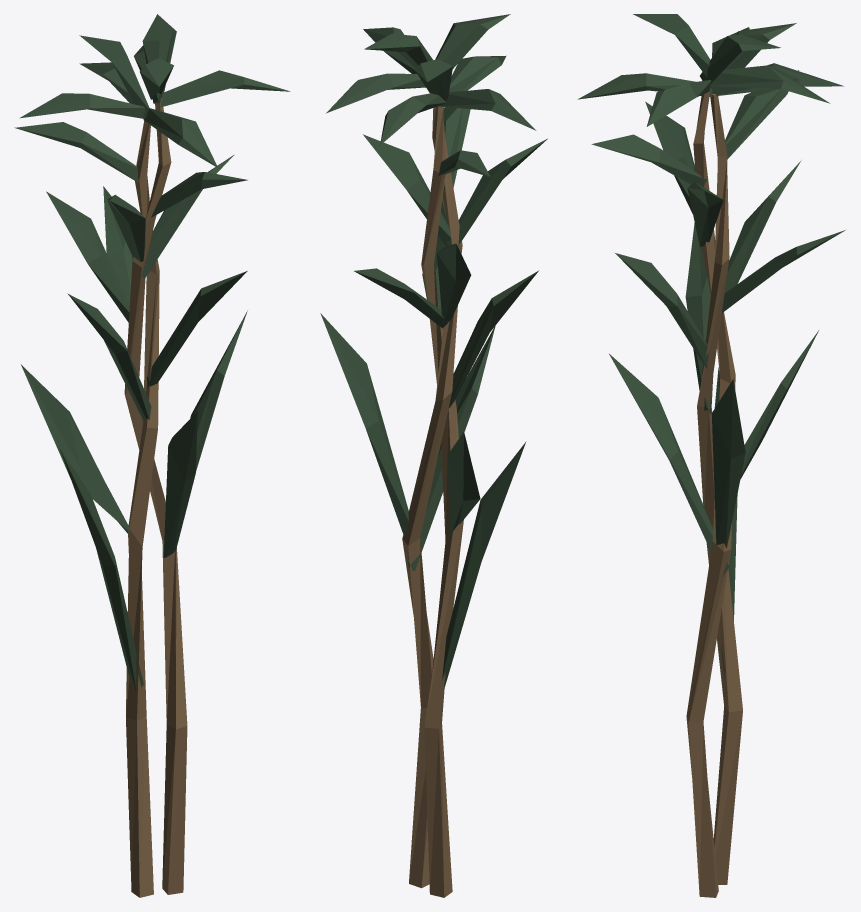
The model's file is SM_Env_Plants_03.glb.
3 renders of one model, left to right at view 1: azimuth 30°, elevation 25°; view 2: azimuth 150°, elevation 25°; view 3: azimuth 270°, elevation 25°, orthographic.
Parts seen in each view (by area): view 1: SM_Env_Plants_03_part00; view 2: SM_Env_Plants_03_part00; view 3: SM_Env_Plants_03_part00.
Boxes of the visible parts, bbox=[...] form: SM_Env_Plants_03_part00: bbox=[14, 14, 290, 897]; SM_Env_Plants_03_part00: bbox=[320, 14, 547, 897]; SM_Env_Plants_03_part00: bbox=[577, 14, 845, 897].
Size of the model in its own units: 0.8291 by 3.02 by 0.8607.
Materials: 1 (1 with a texture image).
